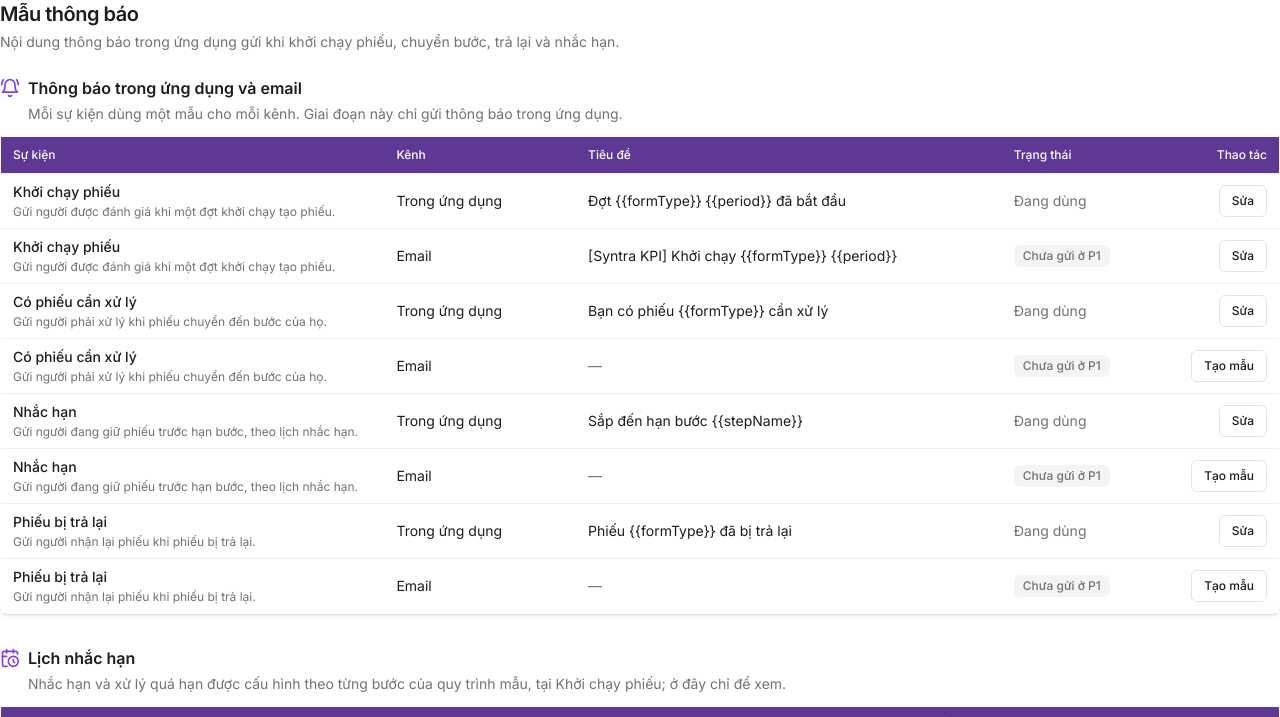
NotificationTemplatesPage › inserts a variable at the caret
The width and height of the screenshot is (1280, 717).
Click the button with aria-label "Sửa mẫu, Phiếu bị trả lại, Trong ứng dụng".
click(1243, 530)  # box [1219, 514, 1267, 546]
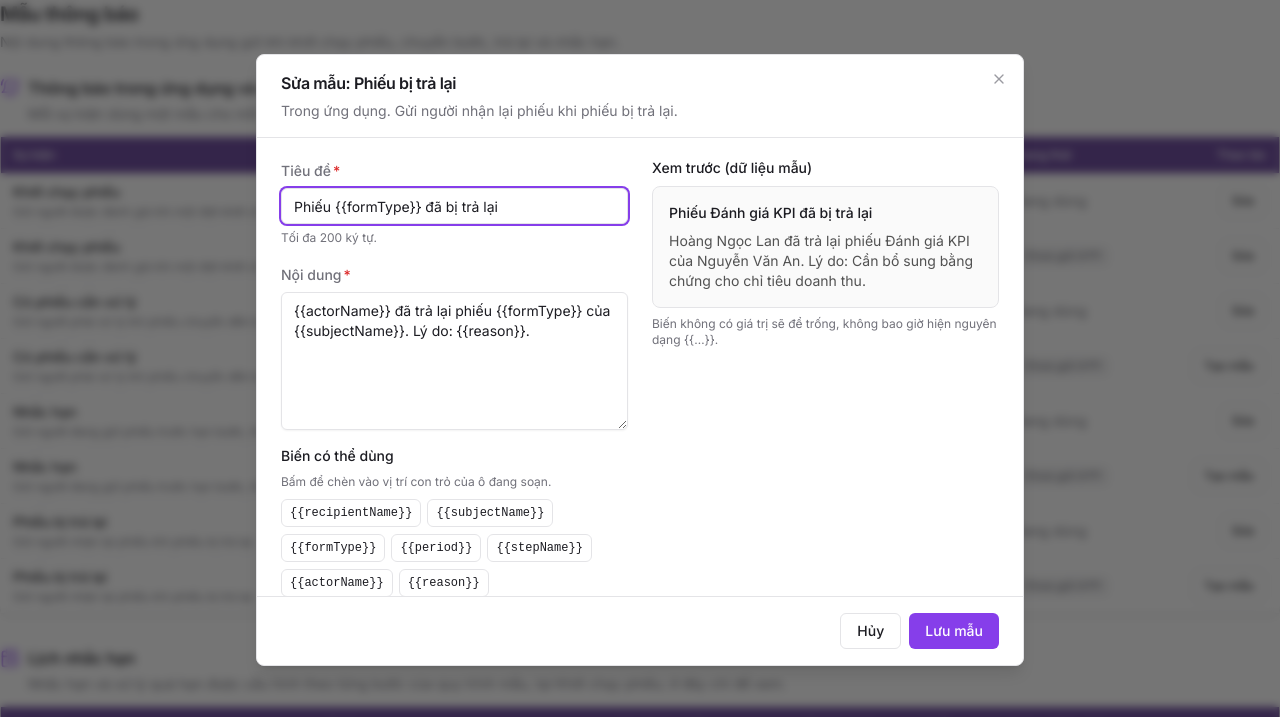
Replace the text in the field labelled "Tiêu đề*" with "Trả lại: " at (454, 206), box [281, 188, 628, 224]
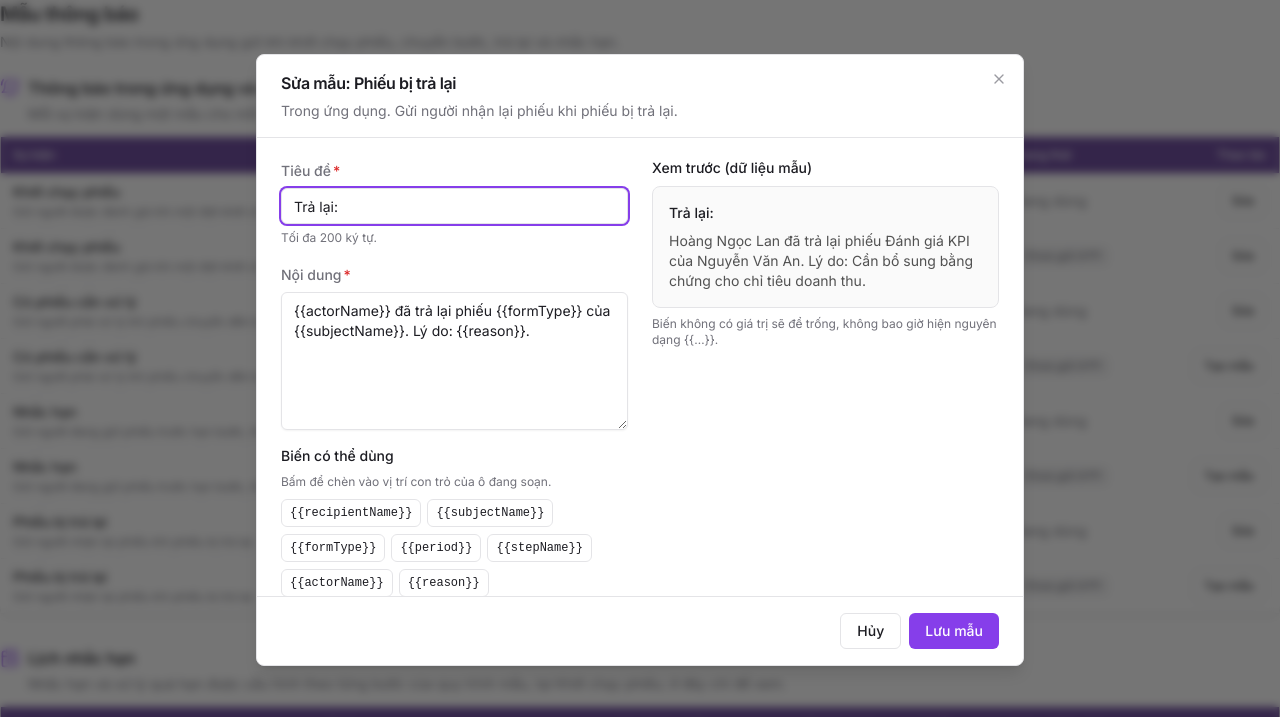
Click the button with aria-label "Chèn biến {{reason}}".
click(444, 583)  # box [399, 569, 489, 597]
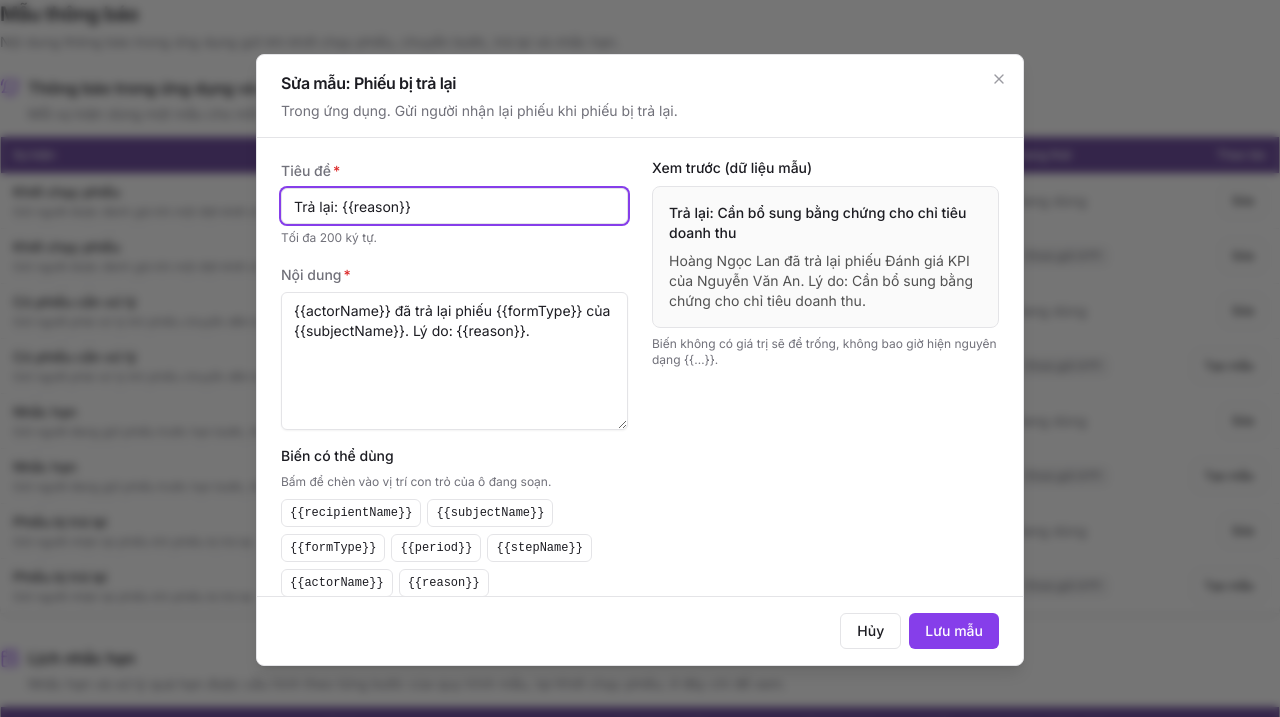
expect the field labelled "Tiêu đề*" holds "Trả lại: {{reason}}": met, box [281, 188, 628, 224]
